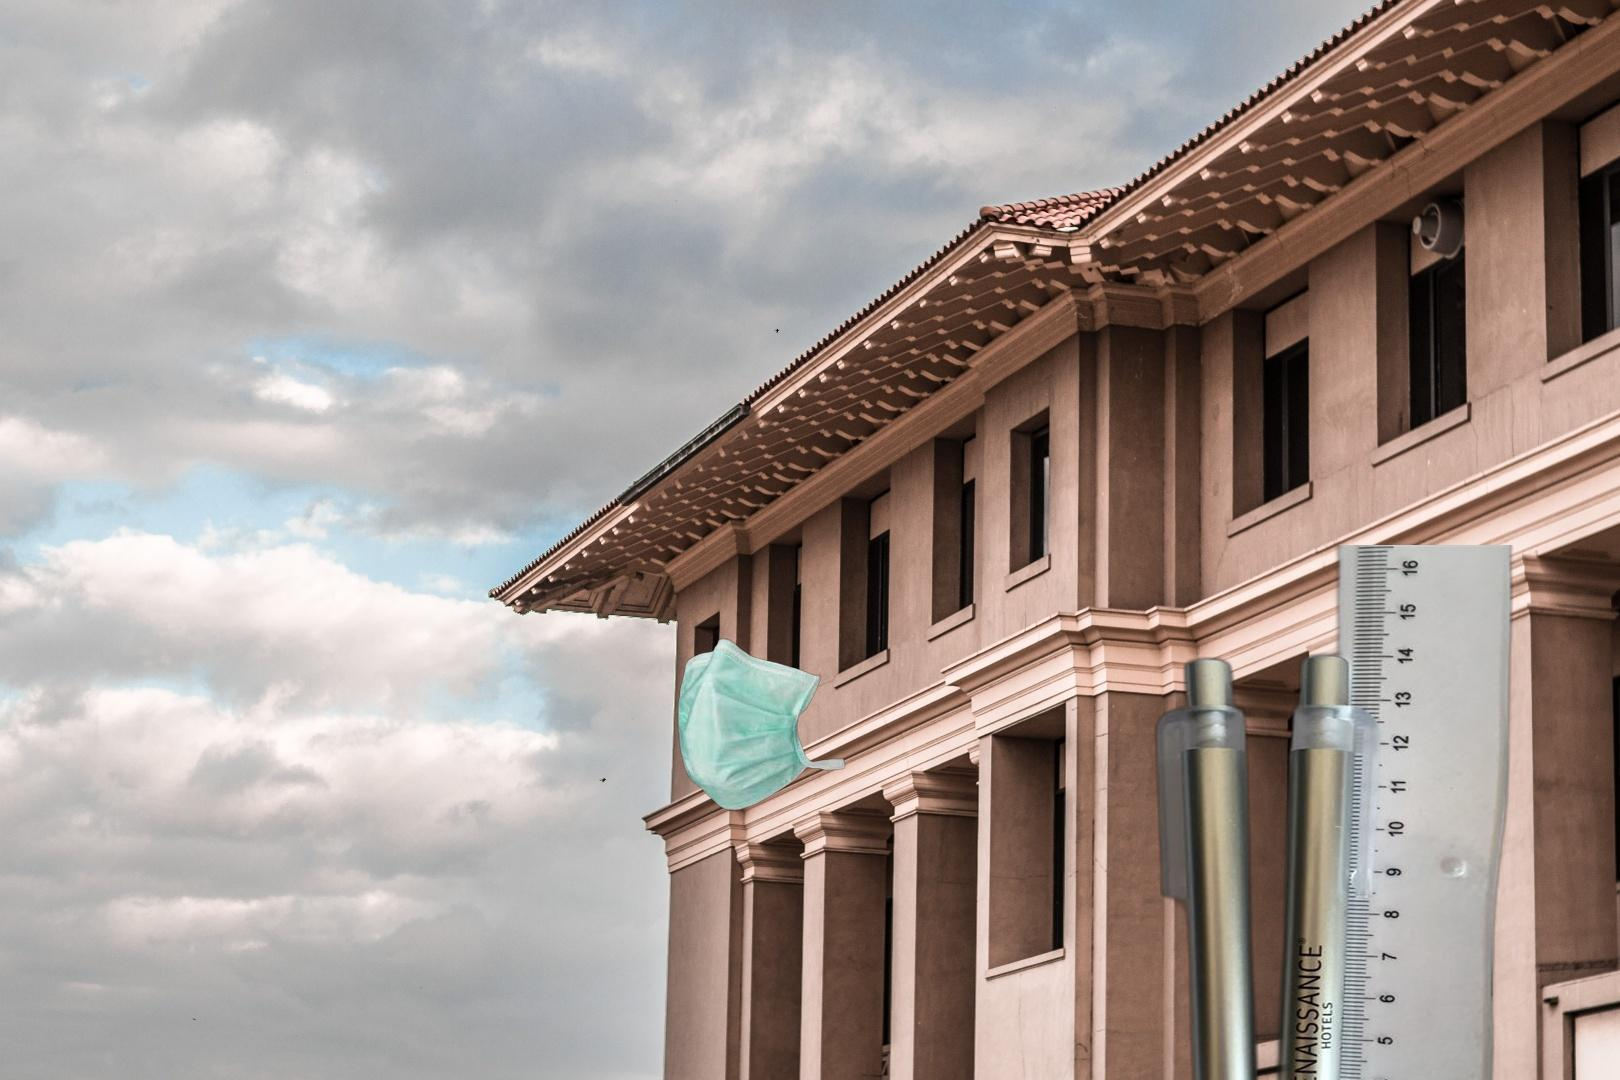penholder: (1149, 545, 1518, 1080)
trash: (677, 636, 849, 812)
